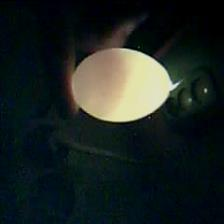infertile: (65, 44, 173, 124)
